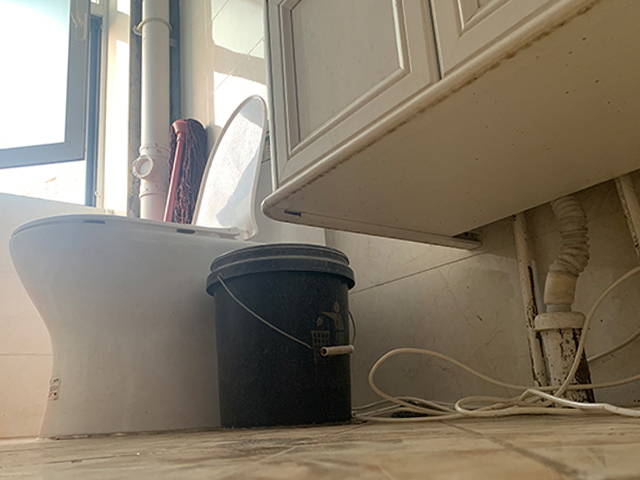closestool: (10, 93, 328, 439)
wire: (353, 266, 640, 424)
